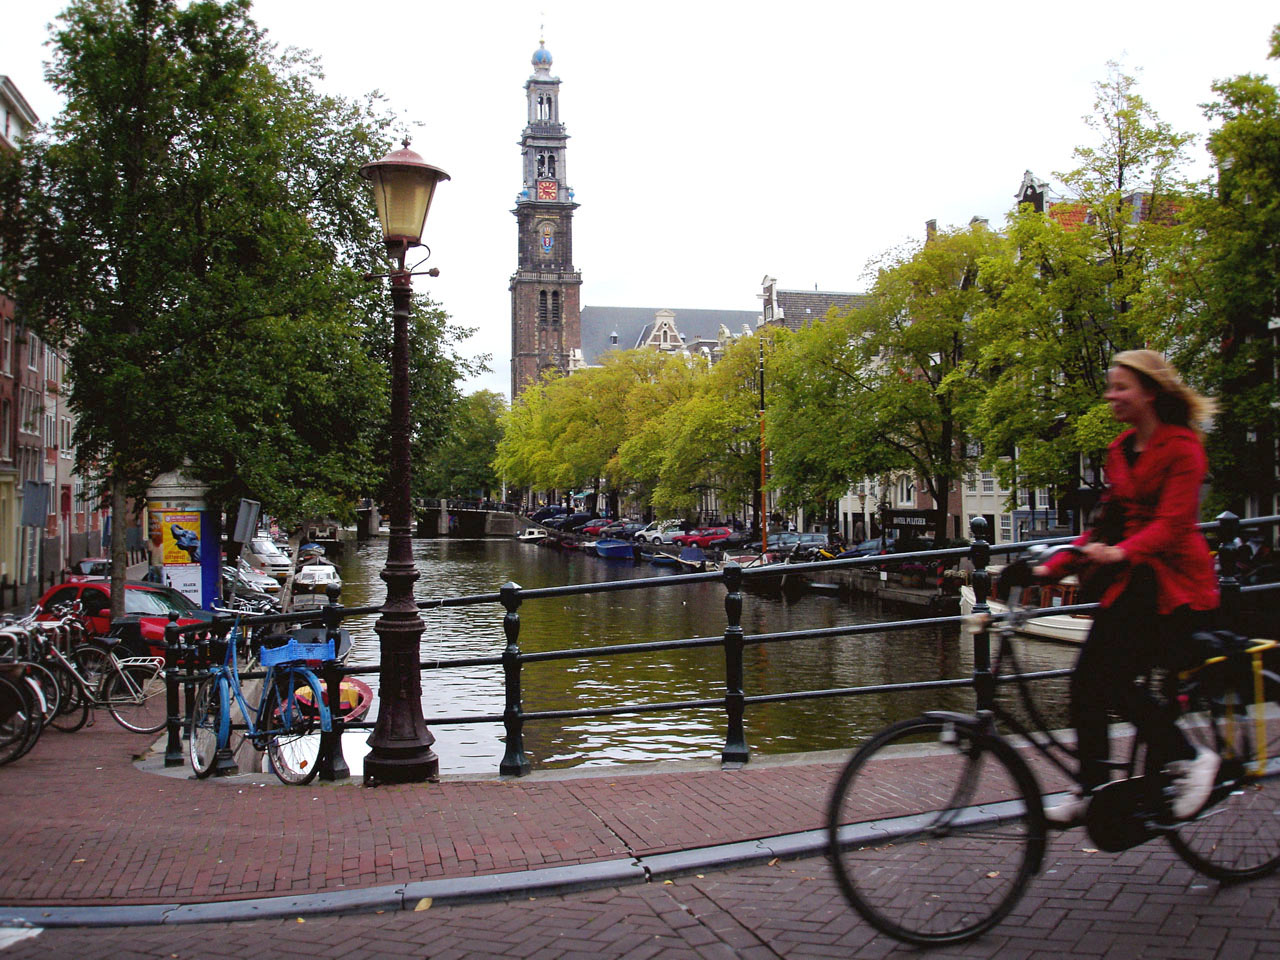commuter: (824, 345, 1280, 948)
